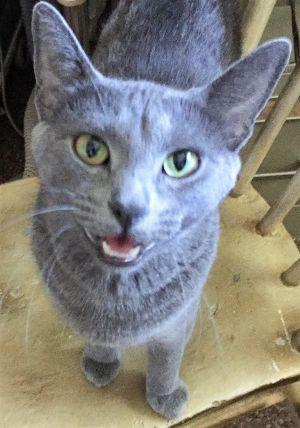rblue: (1, 1, 300, 303)
